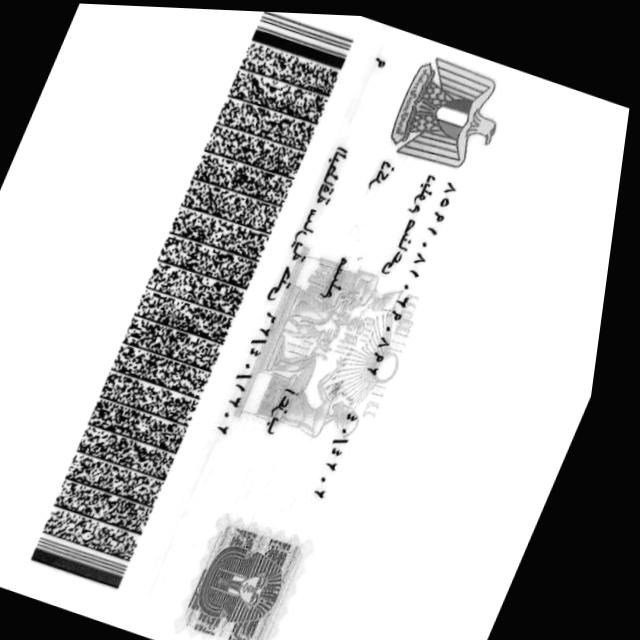id_card: (0, 4, 540, 640)
